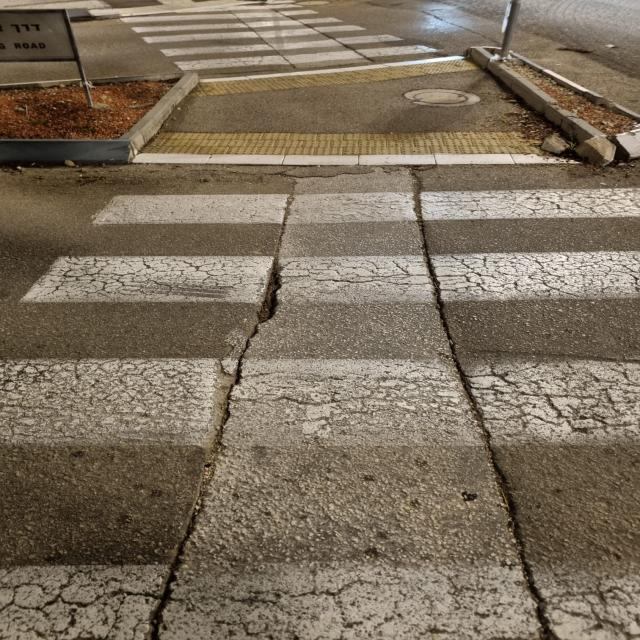medium_pothole: (255, 258, 286, 326)
minor_pothole: (209, 356, 238, 455)
